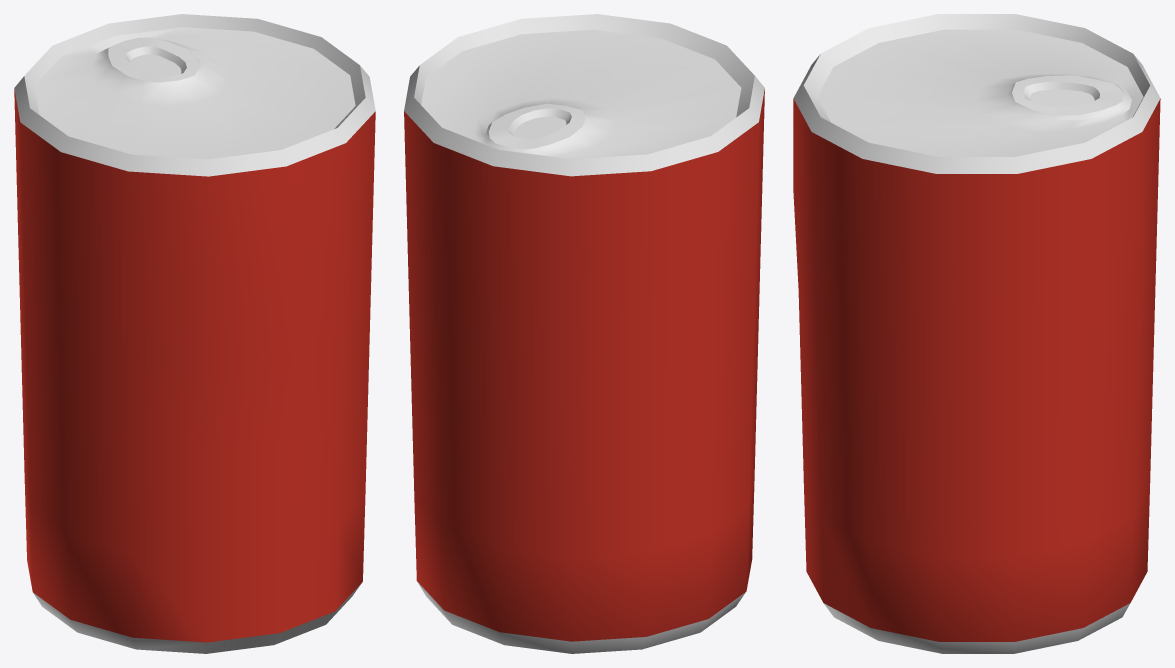
File: lataNormal.glb
3 renders of one model, left to right at view 1: azimuth 30°, elevation 25°; view 2: azimuth 150°, elevation 25°; view 3: azimuth 270°, elevation 25°, orthographic.
Parts seen in each view (by area): view 1: Cylinder.004; view 2: Cylinder.004; view 3: Cylinder.004.
Boxes of the visible parts, x1,y1,x2,y2 form: Cylinder.004: [14, 14, 375, 653]; Cylinder.004: [404, 14, 764, 653]; Cylinder.004: [793, 14, 1160, 653].
Bounding box in the file's own units: 1.34 × 2.08 × 1.37.
